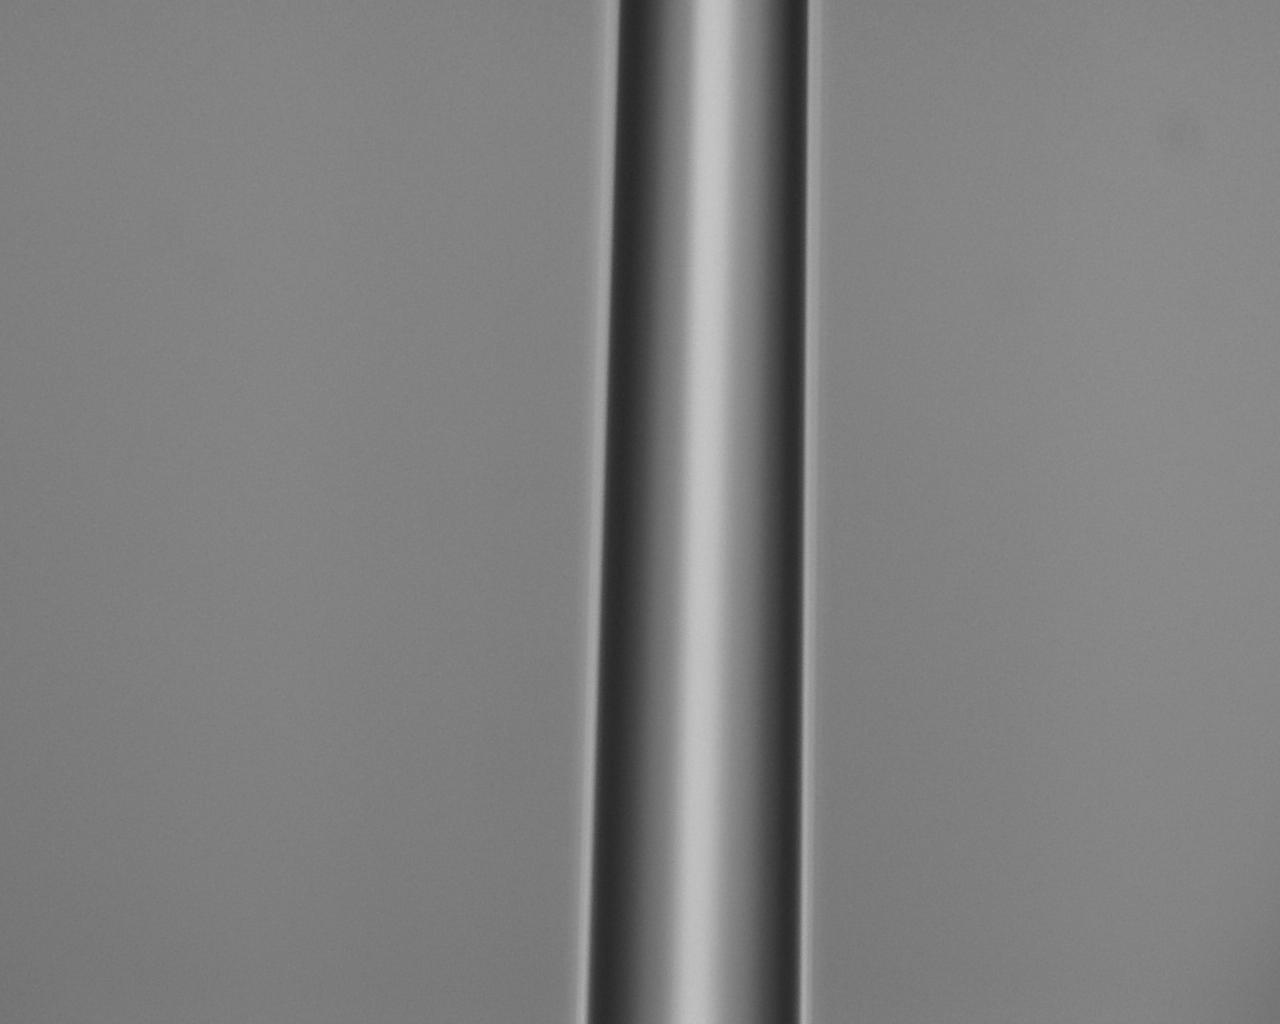fiber: (586, 0, 806, 696), (246, 696, 806, 954)
